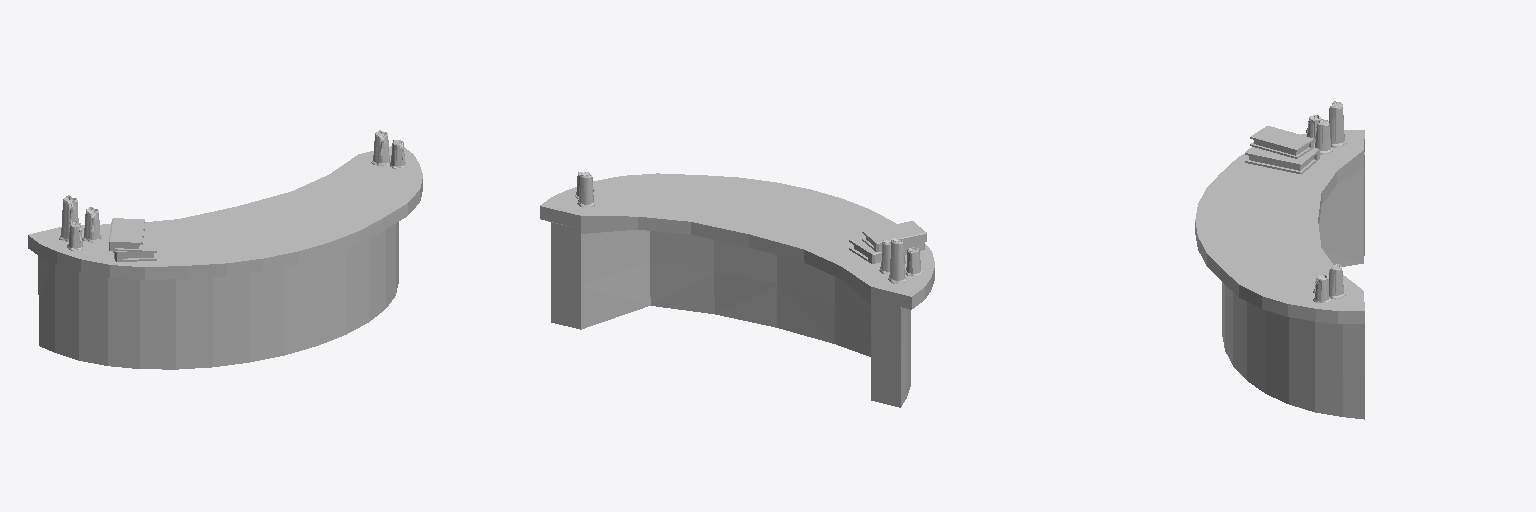
Rendered from escritorio.obj.
3 views of the same model, side by side, from view 1: azimuth 30°, elevation 25°; view 2: azimuth 150°, elevation 25°; view 3: azimuth 270°, elevation 25° (orthographic).
Visible parts, largest first — view 1: escritorio_escritorio, escritorio_Material.013, escritorio_Material.002, escritorio_Material.012; view 2: escritorio_escritorio, escritorio_Material.013, escritorio_Material.012, escritorio_Material.002; view 3: escritorio_escritorio, escritorio_Material.013, escritorio_Material.002, escritorio_Material.012.
Boxes of the visible parts, x1,y1,x2,y2 form: escritorio_escritorio: [28, 140, 422, 369]; escritorio_Material.013: [109, 218, 144, 251]; escritorio_Material.002: [113, 224, 156, 261]; escritorio_Material.012: [59, 195, 78, 241]; escritorio_escritorio: [540, 173, 934, 407]; escritorio_Material.013: [862, 221, 926, 251]; escritorio_Material.012: [888, 238, 906, 283]; escritorio_Material.002: [849, 236, 924, 263]; escritorio_escritorio: [1195, 130, 1364, 419]; escritorio_Material.013: [1250, 126, 1313, 158]; escritorio_Material.002: [1245, 147, 1319, 174]; escritorio_Material.012: [1329, 101, 1346, 147].
Bounding box in the file's own units: 6.44 × 2.59 × 2.54.